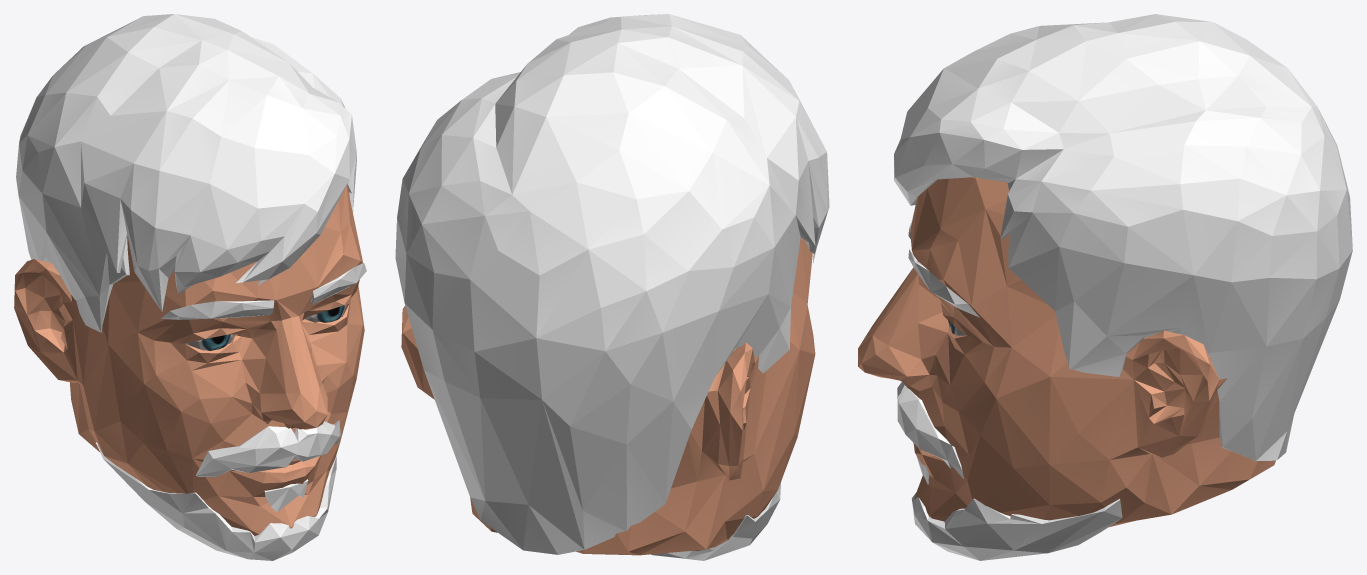
Rendered from beast.glb.
The picture shows the model from 3 angles, left to right: view 1: azimuth 30°, elevation 25°; view 2: azimuth 150°, elevation 25°; view 3: azimuth 270°, elevation 25°; orthographic projection. The views are drawn at different scales.
Parts seen in each view (by area): view 1: hairs, skin, eyesbrows, eyes; view 2: hairs, skin; view 3: hairs, skin, eyesbrows.
Boxes of the visible parts, left/top/right/bottom form: hairs: left=16, top=14, right=356, bottom=560; skin: left=14, top=185, right=364, bottom=536; eyesbrows: left=161, top=263, right=366, bottom=319; eyes: left=185, top=304, right=346, bottom=350; hairs: left=395, top=14, right=829, bottom=560; skin: left=401, top=238, right=815, bottom=555; hairs: left=894, top=14, right=1352, bottom=560; skin: left=858, top=177, right=1275, bottom=527; eyesbrows: left=908, top=214, right=979, bottom=317.
Bounding box in the file's own units: 0.6455 × 0.9918 × 0.8622.
4 materials, 1 textured.
